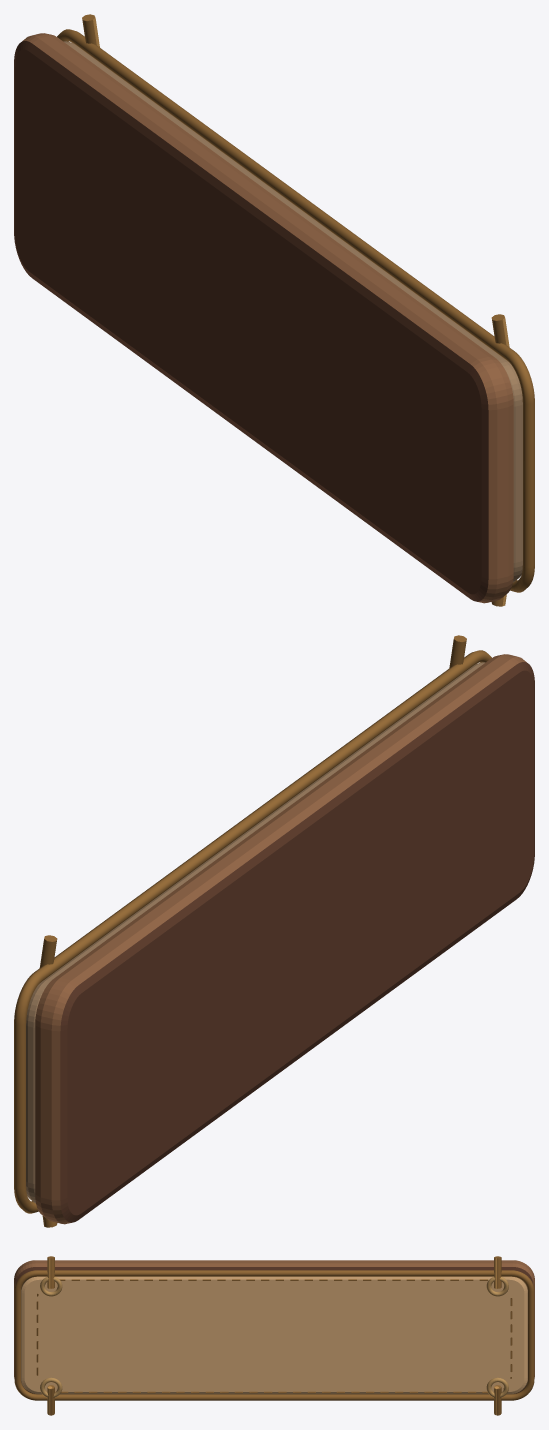
The model's file is SM_Menu_ButtonPlaque.fbx.
3 renders of one model, top to bottom at view 1: azimuth 30°, elevation 25°; view 2: azimuth 150°, elevation 25°; view 3: azimuth 270°, elevation 25°, orthographic. The views are drawn at different scales.
Visible parts, largest first — view 1: Stitched cloth face.001_Baked; view 2: Stitched cloth face.001_Baked; view 3: Stitched cloth face.001_Baked.
Part boxes in pixels (left/top/right/bottom): Stitched cloth face.001_Baked: left=14, top=14, right=534, bottom=606; Stitched cloth face.001_Baked: left=14, top=635, right=534, bottom=1227; Stitched cloth face.001_Baked: left=14, top=1256, right=534, bottom=1415.
Size of the model in its own units: 9.4 by 133 by 44.28.
